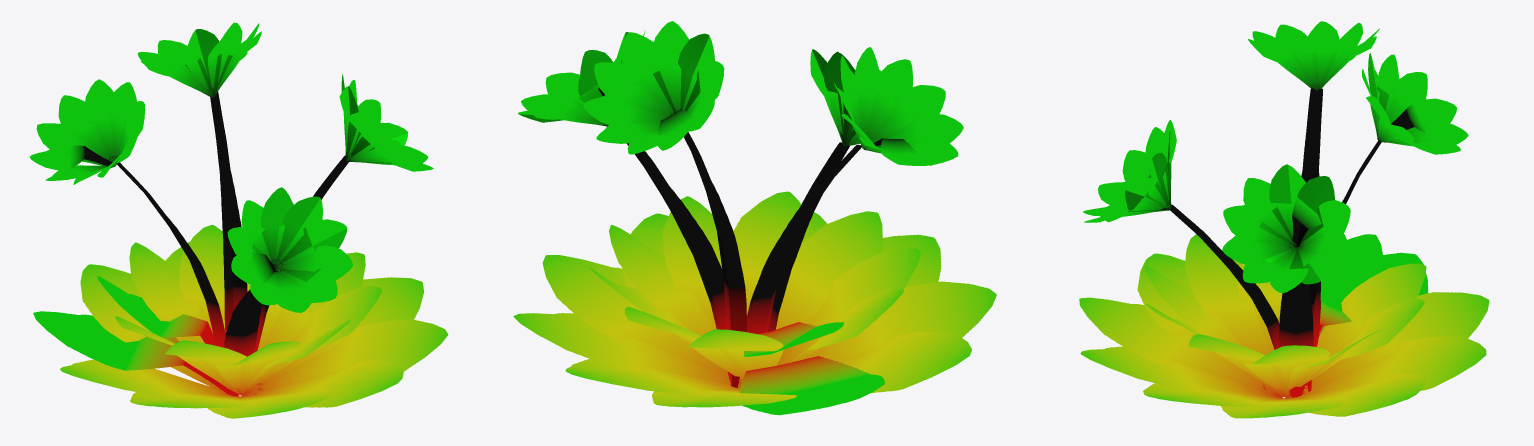
The model's file is Flower3.fbx.
3 views of the same model, side by side, from view 1: azimuth 30°, elevation 25°; view 2: azimuth 150°, elevation 25°; view 3: azimuth 270°, elevation 25° (orthographic). The views are drawn at different scales.
Visible parts, largest first — view 1: Flower3; view 2: Flower3; view 3: Flower3.
Boxes of the visible parts, left/top/right/bottom form: Flower3: left=29, top=22, right=448, bottom=418; Flower3: left=513, top=21, right=996, bottom=415; Flower3: left=1079, top=21, right=1489, bottom=418.
Bounding box in the file's own units: 3.79 × 3.28 × 3.89.
